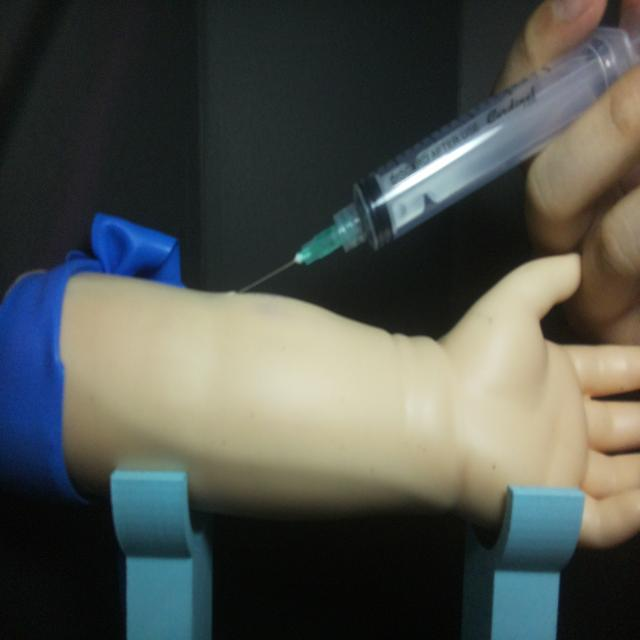19deg: (227, 22, 637, 297)
